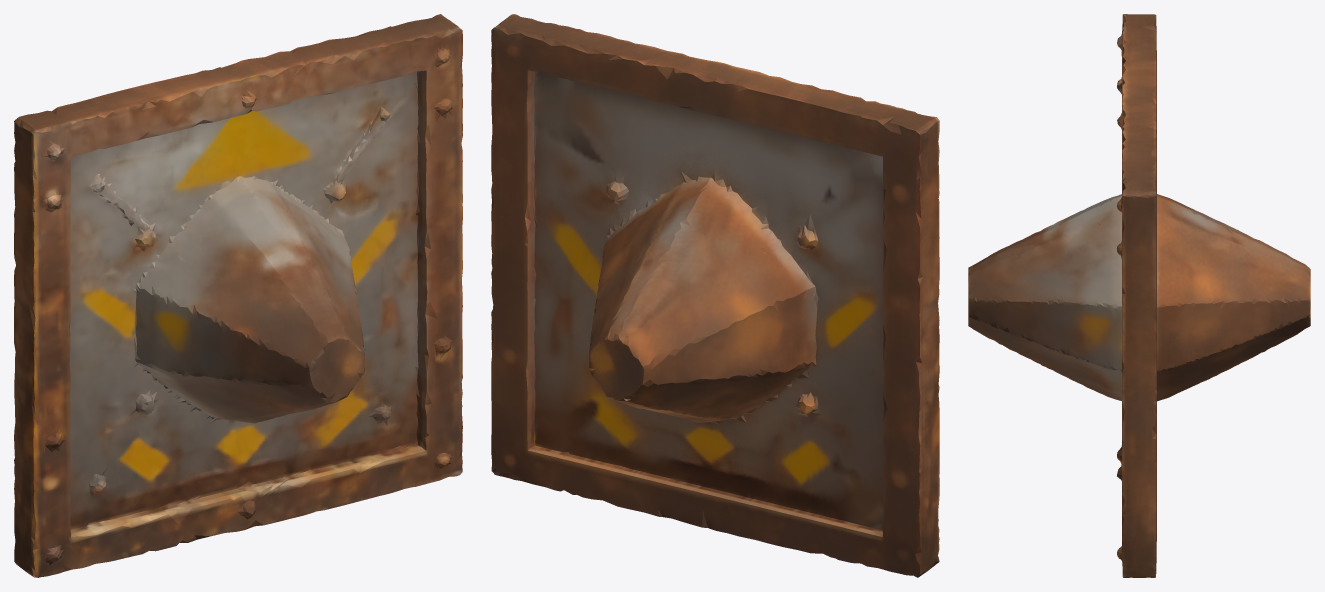
Rendered from golem_shield.glb.
3 renders of one model, left to right at view 1: azimuth 30°, elevation 25°; view 2: azimuth 150°, elevation 25°; view 3: azimuth 270°, elevation 25°, orthographic. The views are drawn at different scales.
Visible parts, largest first — view 1: golem_shield; view 2: golem_shield; view 3: golem_shield.
Boxes of the visible parts, x1,y1,x2,y2 form: golem_shield: [14, 14, 462, 577]; golem_shield: [491, 14, 939, 577]; golem_shield: [968, 14, 1310, 577].
Size of the model in its own units: 1.89 by 1.89 by 1.51.
1 material, 1 textured.
